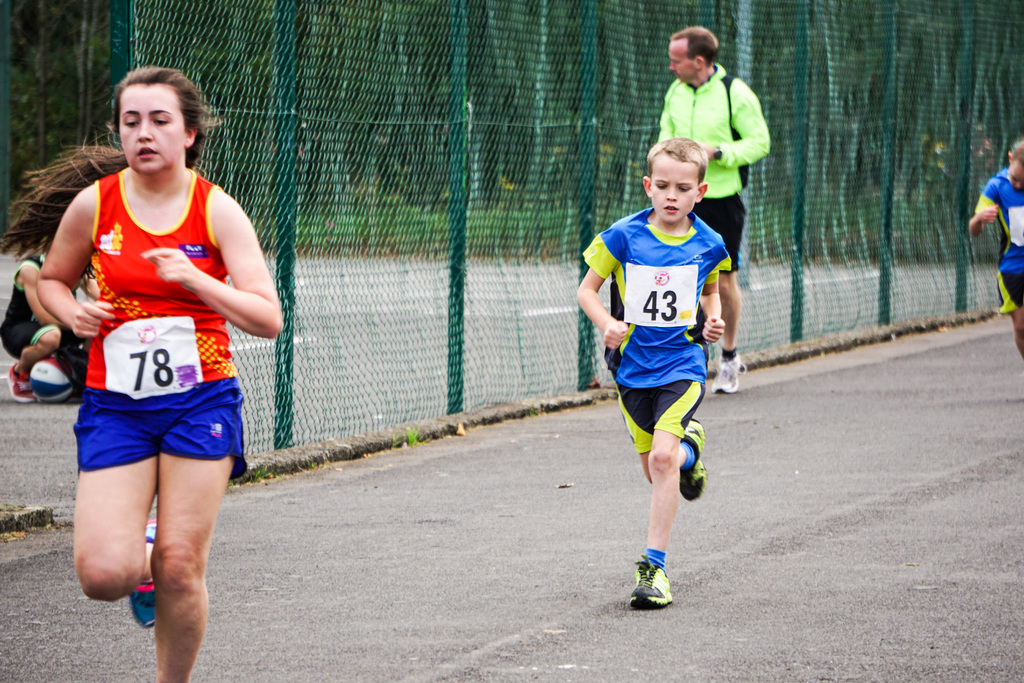Person: (0, 26, 1023, 682)
